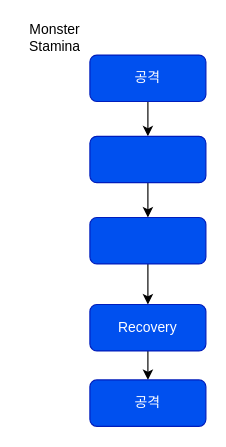
The diagram is 226 pixels wide and 447 high, and some of its shapes have lost their labels. Here are the shapes that lost their labels. From the top down, the box of each, then its label:
(89, 135, 206, 183): 스태미너 부족
(89, 216, 206, 264): StandOff
